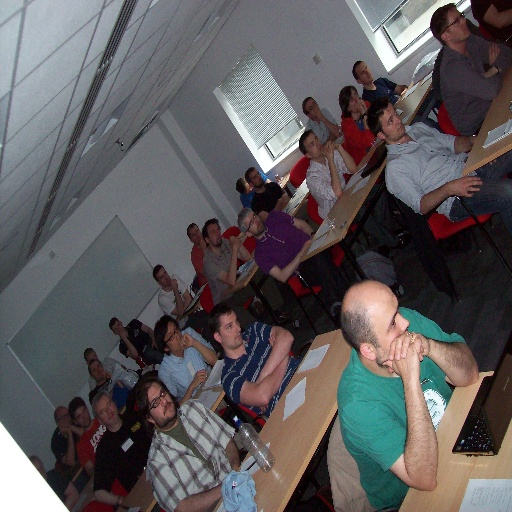hand: (387, 331, 430, 374), (381, 340, 424, 379), (450, 177, 482, 198), (189, 369, 207, 389), (176, 331, 193, 352), (488, 42, 501, 69), (323, 141, 335, 161), (324, 142, 338, 155), (267, 331, 276, 350), (312, 104, 321, 122), (232, 238, 243, 251), (353, 102, 364, 115), (199, 241, 207, 256), (256, 404, 268, 413), (169, 279, 178, 289), (356, 98, 366, 107), (58, 427, 69, 435), (100, 372, 111, 380), (150, 342, 159, 351), (117, 331, 126, 339), (227, 234, 232, 247), (489, 160, 497, 166), (67, 422, 71, 432)
